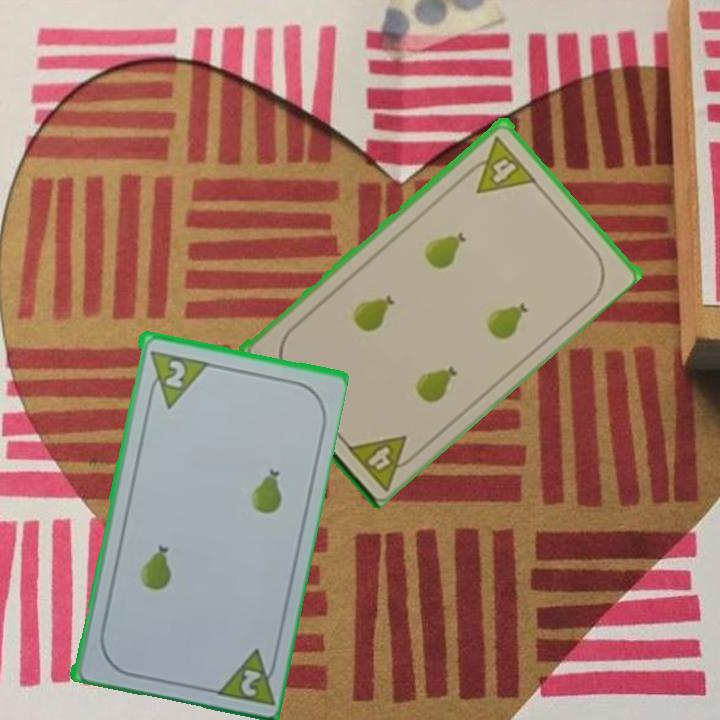2p: (209, 643, 281, 708), (159, 356, 188, 391)
4p: (342, 430, 423, 492), (460, 132, 538, 196)
